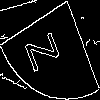Z: (25, 24, 66, 74)
